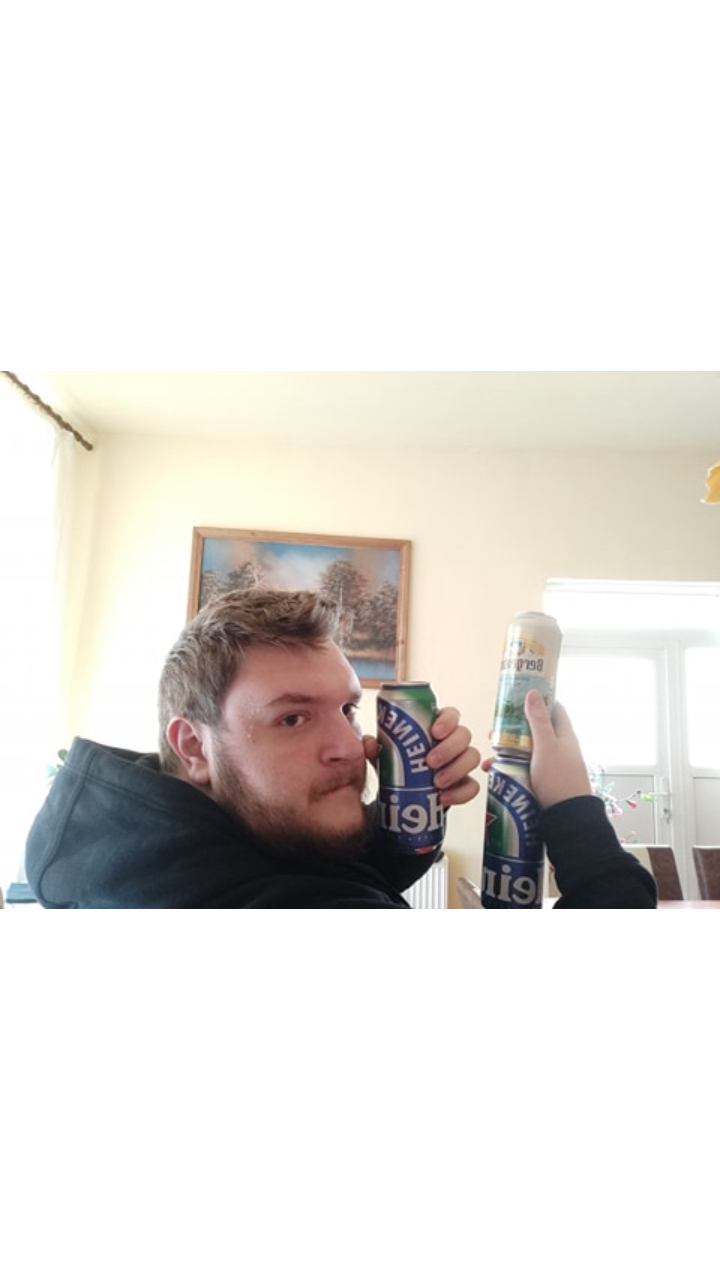Can: (373, 680, 444, 849), (489, 608, 559, 757), (481, 760, 549, 904)
